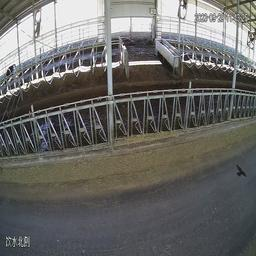cow: (3, 61, 18, 90)
